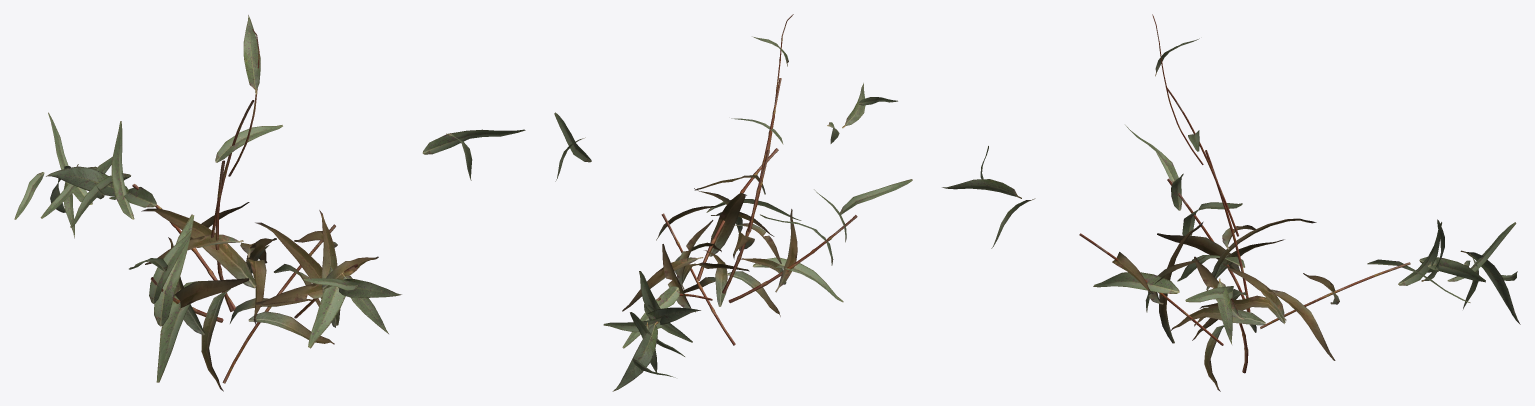
The picture shows the model from 3 angles, left to right: view 1: azimuth 30°, elevation 25°; view 2: azimuth 150°, elevation 25°; view 3: azimuth 270°, elevation 25°; orthographic projection. The views are drawn at different scales.
Visible parts, largest first — view 1: shrub_02_c; view 2: shrub_02_c; view 3: shrub_02_c.
Boxes of the visible parts, x1,y1,x2,y2 form: shrub_02_c: (14,15,525,391); shrub_02_c: (554,14,912,391); shrub_02_c: (942,14,1520,391).
Size of the model in its own units: 1.79 by 1.58 by 2.38.
1 material, 1 textured.
